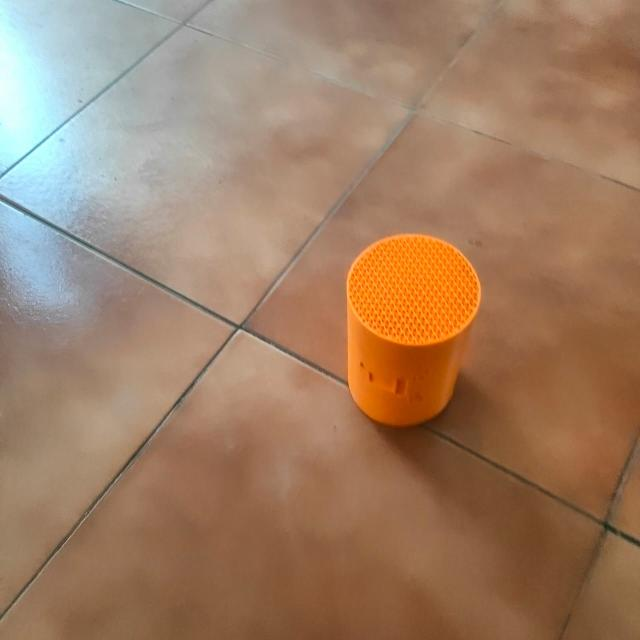Cylinder: (345, 232, 482, 428)
